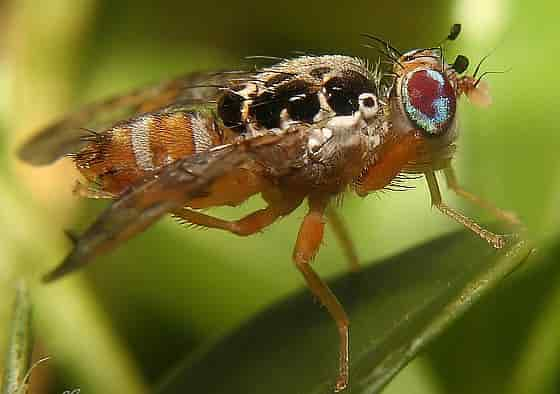Fruit fly: (60, 32, 493, 282)
